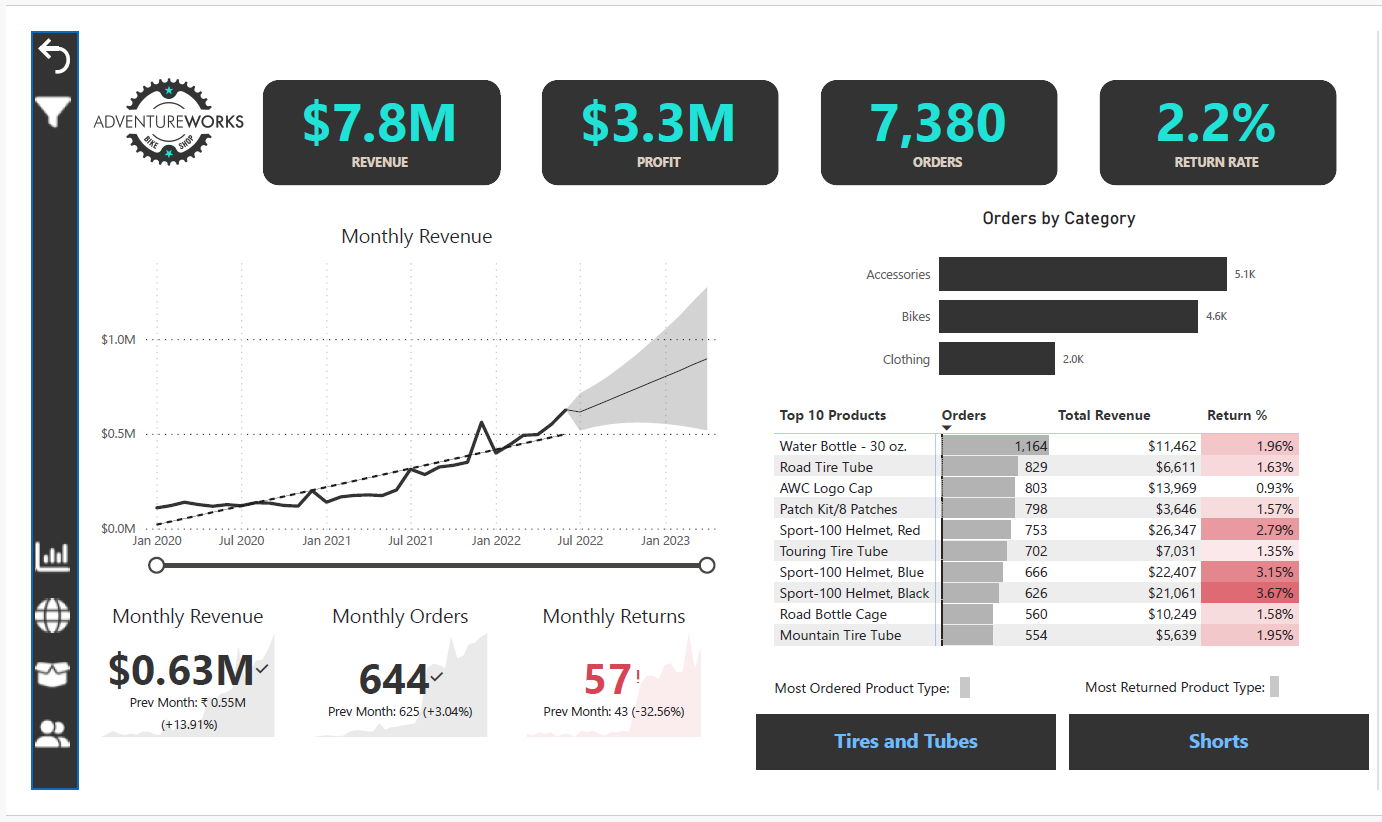

This screenshot's page, from the dashboard's own definition file:
{"tool":"powerbi","page":{"name":"Excel Dashboard","canvas":[1280,720],"ordinal":0},"visuals":[{"type":"card","fields":{"Values":["Measure Table.Total Revenue"]},"box":[220,23.2,222.2,135.6],"z":0,"group":"g2"},{"type":"image","title":"AW Logo","box":[39.4,23.4,184,123.4],"z":0},{"type":"group","id":"g1","title":"KPI Backgrounds","box":[220,46.3,1020.2,100],"z":0,"group":"g3"},{"type":"shape","box":[220,46.3,225.5,100],"z":0,"group":"g1"},{"type":"shape","title":"Left Nav Background","box":[0,0,45,720],"z":1000},{"type":"group","id":"g2","title":"KPI Values","box":[220,23.2,1017.1,135.6],"z":1000,"group":"g3"},{"type":"card","fields":{"Values":["Measure Table.Total Profit"]},"box":[485,23.2,222.2,135.6],"z":1000,"group":"g2"},{"type":"shape","box":[1014.7,46.3,225.5,100],"z":1000,"group":"g1"},{"type":"group","id":"g3","title":"KPIs","box":[220,23.2,1020.7,135.7],"z":2000},{"type":"card","fields":{"Values":["Measure Table.Total Orders"]},"box":[750,23.2,222.2,135.6],"z":2000,"group":"g2"},{"type":"shape","box":[749.8,46.3,225.5,100],"z":2000,"group":"g1"},{"type":"card","fields":{"Values":["Measure Table.Return Rate"]},"box":[1015,23.2,222.2,135.6],"z":3000,"group":"g2"},{"type":"shape","box":[484.9,46.3,225.5,100],"z":3000,"group":"g1"},{"type":"lineChart","title":"Monthly Revenue","fields":{"Y":["Measure Table.Total Revenue"],"Category":["Calendar Lookup.Start of Month.Variation.Date Hierarchy.Year","Calendar Lookup.Start of Month.Variation.Date Hierarchy.Quarter","Calendar Lookup.Start of Month.Variation.Date Hierarchy.Month","Calendar Lookup.Start of Month.Variation.Date Hierarchy.Day"]},"box":[61.2,180.6,610.1,337.1],"z":3000},{"type":"kpi","title":"Monthly Revenue","fields":{"Indicator":["Measure Table.Total Revenue"],"Goal":["Measure Table.Previous Month Revenue"],"TrendLine":["Calendar Lookup.Start of Month"]},"box":[61.1,541.5,174.8,133.2],"z":4000},{"type":"kpi","title":"Monthly Orders","fields":{"TrendLine":["Calendar Lookup.Start of Month"],"Indicator":["Measure Table.Total Orders"],"Goal":["Measure Table.Previous Month Orders"]},"box":[263.4,541.5,174.8,133.2],"z":5000},{"type":"kpi","title":"Monthly Returns","fields":{"TrendLine":["Calendar Lookup.Start of Month"],"Indicator":["Measure Table.Total Returns"],"Goal":["Measure Table.Previous Month Returns"]},"box":[465.7,541.5,174.8,133.2],"z":6000},{"type":"clusteredBarChart","title":"Orders by Category","fields":{"Category":["Product Categories Lookup.CategoryName"],"Y":["Measure Table.Total Orders"]},"box":[782.9,167.1,387.1,181.4],"z":7000},{"type":"pivotTable","fields":{"Rows":["Product Lookup.ProductName"],"Values":["Measure Table.Total Orders","Measure Table.Total Revenue","Measure Table.Return Rate"]},"box":[701.4,348.6,527.1,247.1],"z":8000},{"type":"card","fields":{"Values":["Min(Product Subcategories Lookup.SubcategoryName)"]},"box":[688.6,648.6,284.3,52.9],"z":9000},{"type":"textbox","box":[701.4,608.6,194.3,30],"z":10000},{"type":"card","fields":{"Values":["Min(Product Subcategories Lookup.SubcategoryName)"]},"box":[985.7,648.6,284.3,52.9],"z":11000},{"type":"textbox","box":[995.7,608.3,194.3,30],"z":12000},{"type":"actionButton","box":[0,0,44.3,45.7],"z":13000},{"type":"actionButton","box":[0,478.6,44.3,40],"z":14000},{"type":"actionButton","box":[0,534.8,44.3,40],"z":15000},{"type":"actionButton","box":[0,591,44.3,40],"z":16000},{"type":"actionButton","box":[0,647.1,44.3,40],"z":17000},{"type":"actionButton","box":[0,56.2,44,40.3],"z":18000}]}

Visuals, with their boxes on the page's 1280x720 design canvas (x1, y1, x2, y2). These are canvas units, not pixel positions in the 1382x822 screenshot, which may show the page scaled, cropped or inside an application window:
card - Measure Table.Total Revenue: BBox(220, 23, 442, 159)
"AW Logo" image: BBox(39, 23, 223, 147)
"KPI Backgrounds" group: BBox(220, 46, 1240, 146)
shape: BBox(220, 46, 446, 146)
"Left Nav Background" shape: BBox(0, 0, 45, 720)
"KPI Values" group: BBox(220, 23, 1237, 159)
card - Measure Table.Total Profit: BBox(485, 23, 707, 159)
shape: BBox(1015, 46, 1240, 146)
"KPIs" group: BBox(220, 23, 1241, 159)
card - Measure Table.Total Orders: BBox(750, 23, 972, 159)
shape: BBox(750, 46, 975, 146)
card - Measure Table.Return Rate: BBox(1015, 23, 1237, 159)
shape: BBox(485, 46, 710, 146)
"Monthly Revenue" lineChart: BBox(61, 181, 671, 518)
"Monthly Revenue" kpi: BBox(61, 542, 236, 675)
"Monthly Orders" kpi: BBox(263, 542, 438, 675)
"Monthly Returns" kpi: BBox(466, 542, 640, 675)
"Orders by Category" clusteredBarChart: BBox(783, 167, 1170, 348)
pivotTable - Product Lookup.ProductName x Measure Table.Total Orders: BBox(701, 349, 1228, 596)
card - Min(Product Subcategories Lookup.SubcategoryName): BBox(689, 649, 973, 702)
textbox: BBox(701, 609, 896, 639)
card - Min(Product Subcategories Lookup.SubcategoryName): BBox(986, 649, 1270, 702)
textbox: BBox(996, 608, 1190, 638)
actionButton: BBox(0, 0, 44, 46)
actionButton: BBox(0, 479, 44, 519)
actionButton: BBox(0, 535, 44, 575)
actionButton: BBox(0, 591, 44, 631)
actionButton: BBox(0, 647, 44, 687)
actionButton: BBox(0, 56, 44, 96)
